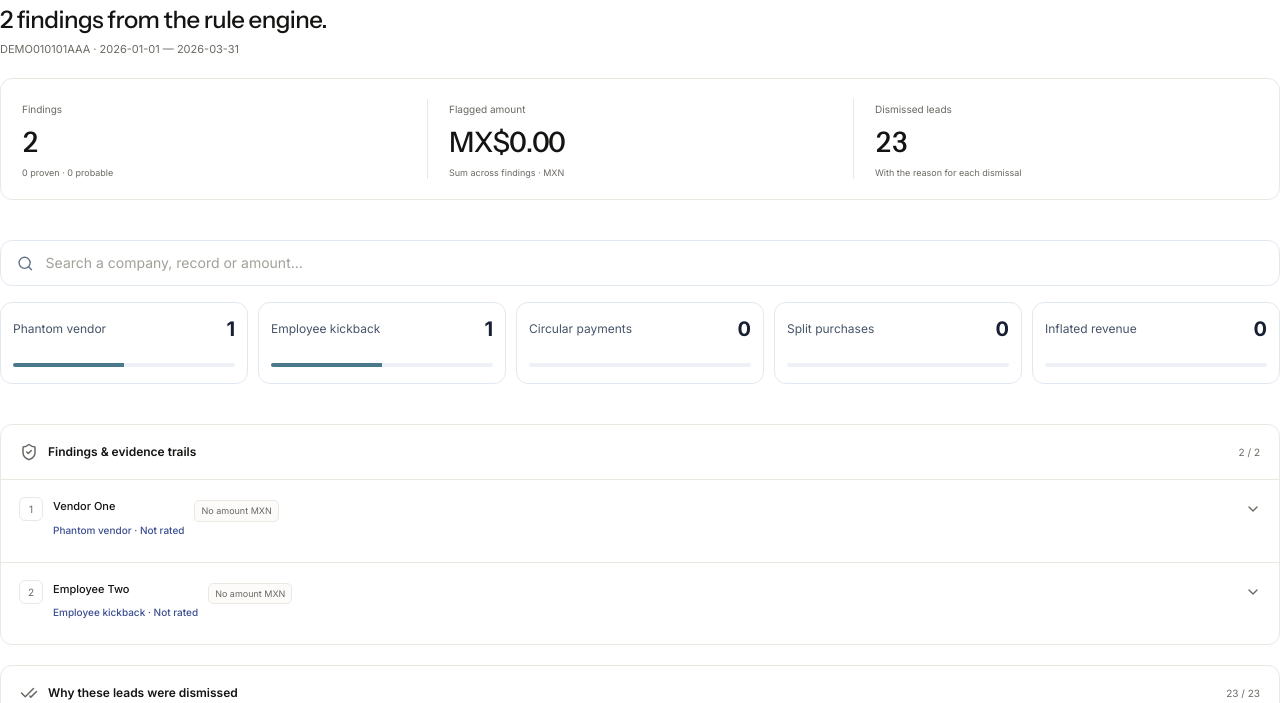
investigación integrada en el main › filters findings by pattern and searches all pages of dismissed leads
The image size is (1280, 703).
(page scrolled)
Click the button "Employee kickback 1" at x=382, y=344, box [258,302,506,384]
(page scrolled)
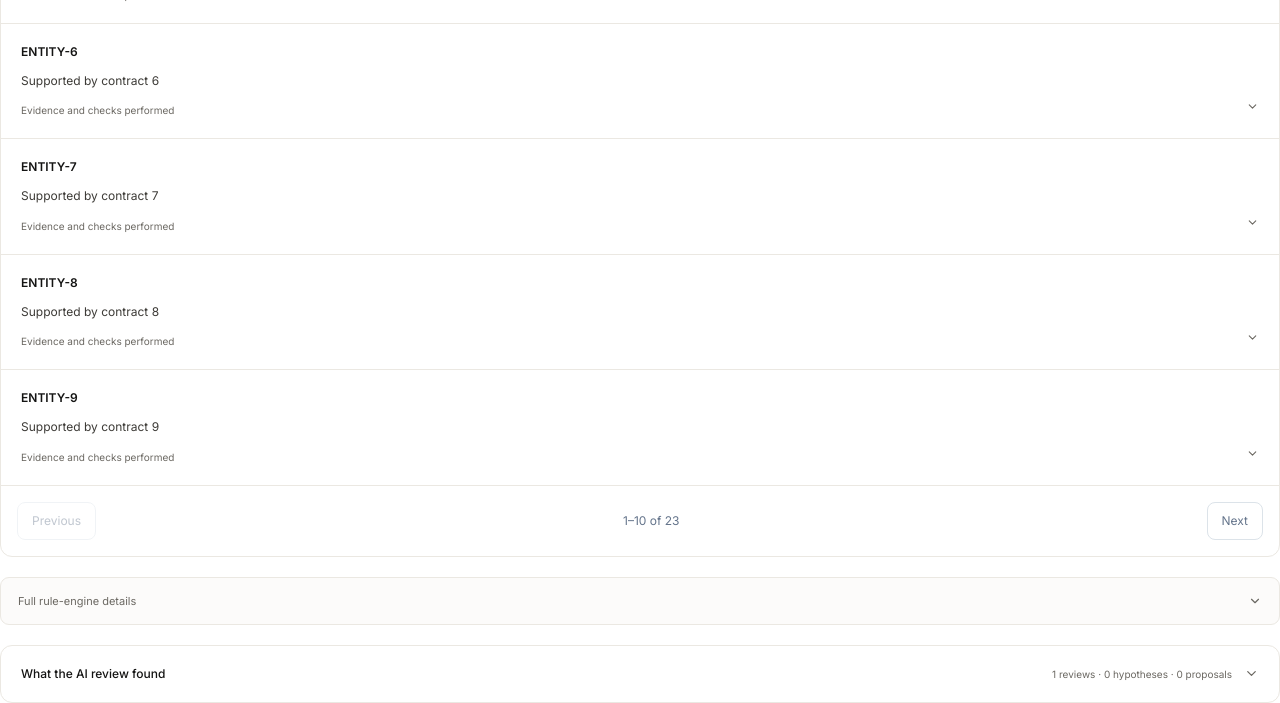
Expected: the text "ENTITY-22" is not shown
Now the heading "Vendor One" is gone
Click the button "Next" at x=1235, y=520, box [1206,502,1263,540]
(page scrolled)
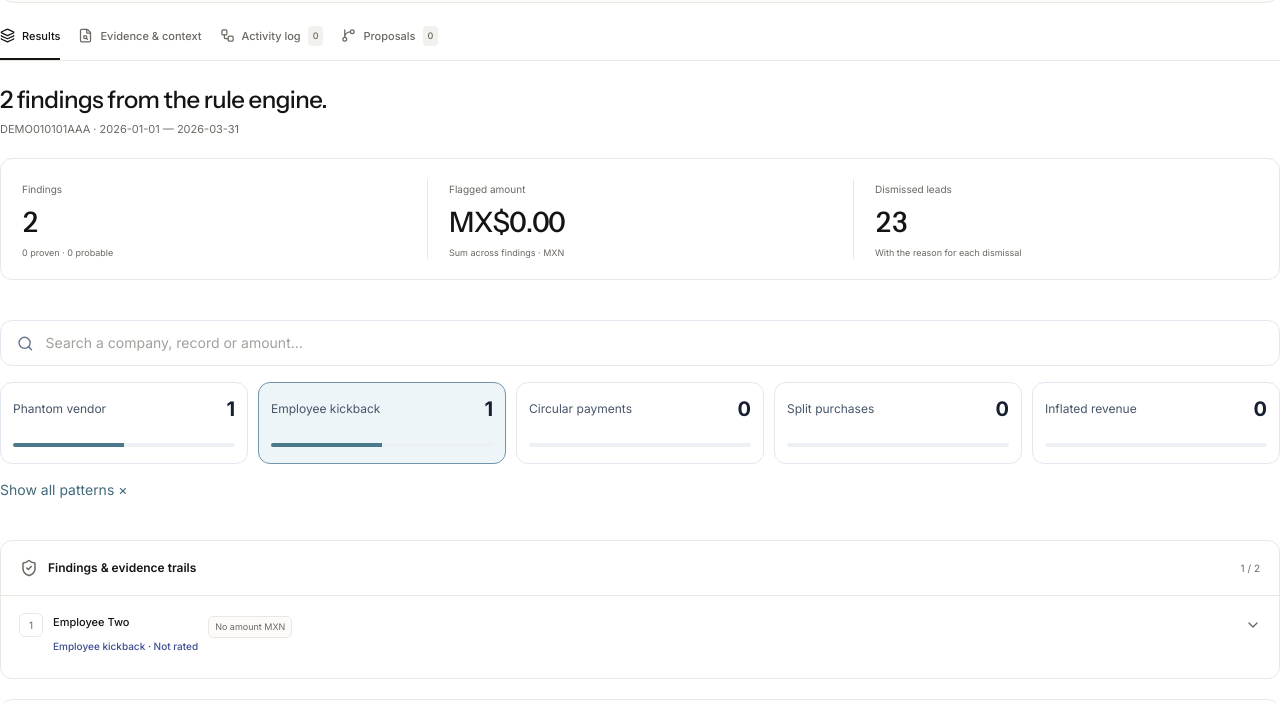
Type "ENTITY-22" into the field named "Search findings and dismissed leads" at x=654, y=344, box [46,334,1263,354]
(page scrolled)
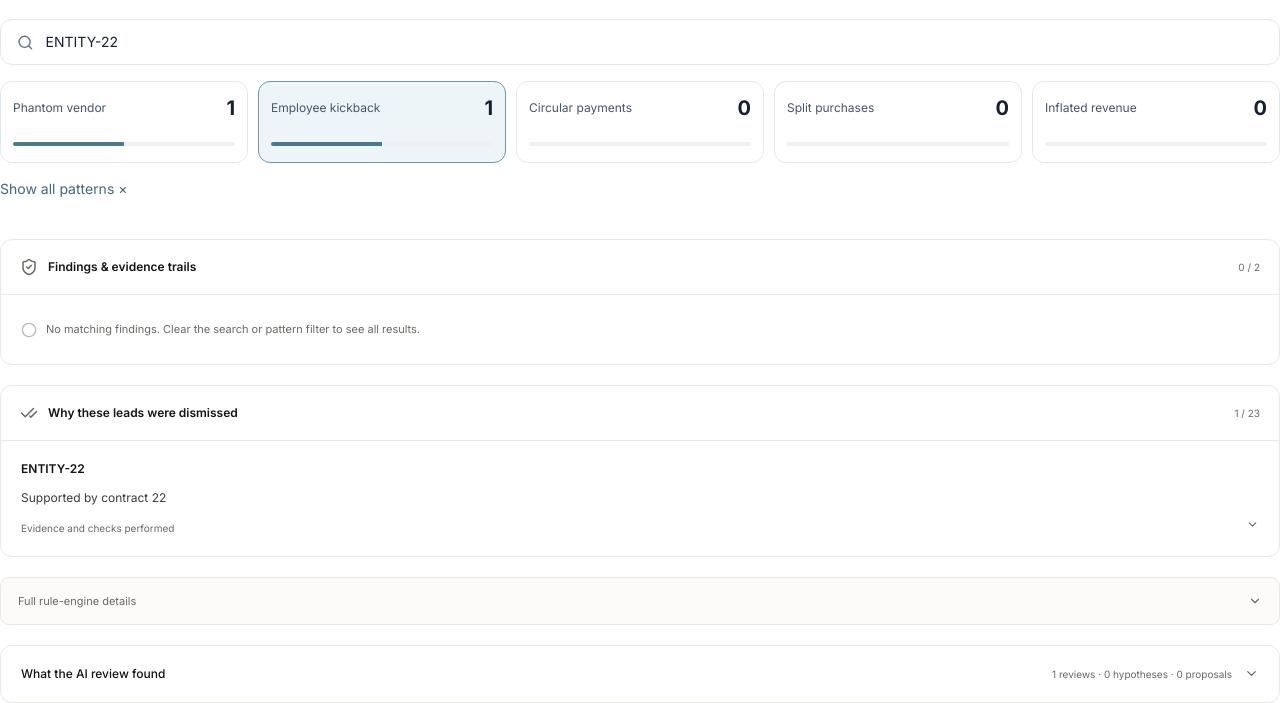
Now the text "ENTITY-22" is shown, box [21,459,85,479]
